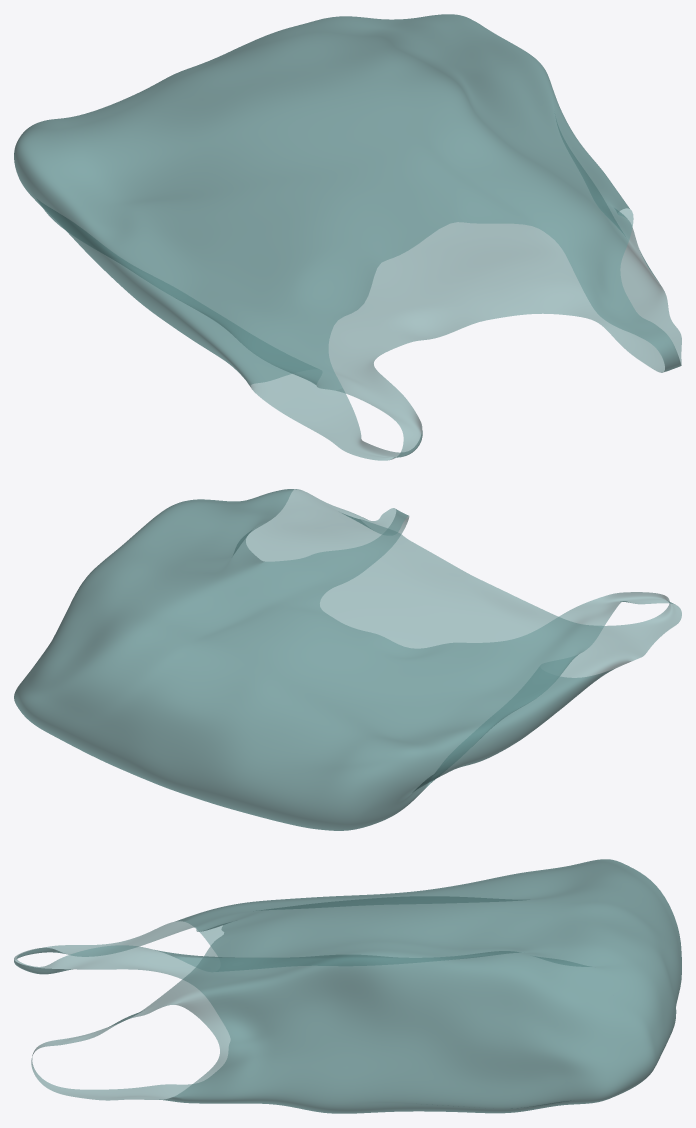
3 renders of one model, top to bottom at view 1: azimuth 30°, elevation 25°; view 2: azimuth 150°, elevation 25°; view 3: azimuth 270°, elevation 25°, orthographic. The views are drawn at different scales.
Visible parts, largest first — view 1: Subdivision_Surface_1; view 2: Subdivision_Surface_1; view 3: Subdivision_Surface_1.
Boxes of the visible parts, x1=… form: Subdivision_Surface_1: x1=14, y1=14, x2=681, y2=460; Subdivision_Surface_1: x1=14, y1=489, x2=681, y2=830; Subdivision_Surface_1: x1=14, y1=859, x2=681, y2=1113.
Size of the model in its own units: 1.4 by 0.5249 by 2.
1 material, 1 textured.
